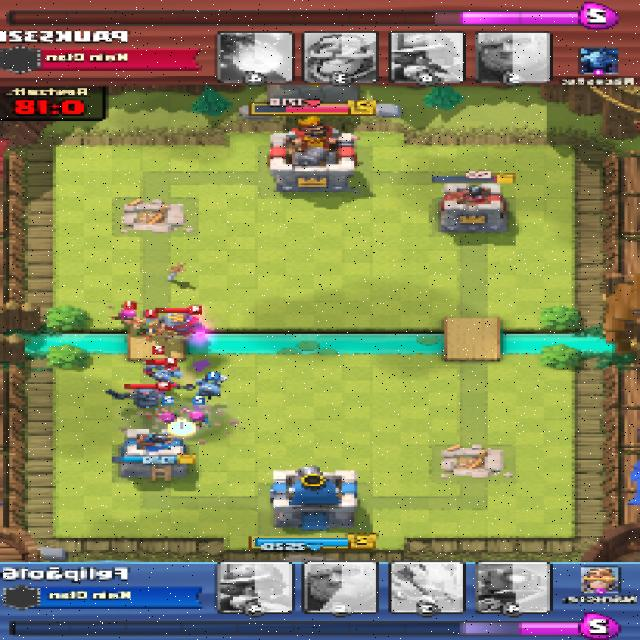Enemy-Archer: (109, 306, 142, 328)
Enemy-Knight: (151, 312, 212, 339)
Enemy-MiniPEKKA: (113, 384, 170, 409)
Enemy-Minion: (145, 364, 183, 379)
Player-Archer: (186, 409, 213, 429), (160, 409, 185, 427)
Player-Minion: (192, 377, 228, 398)
